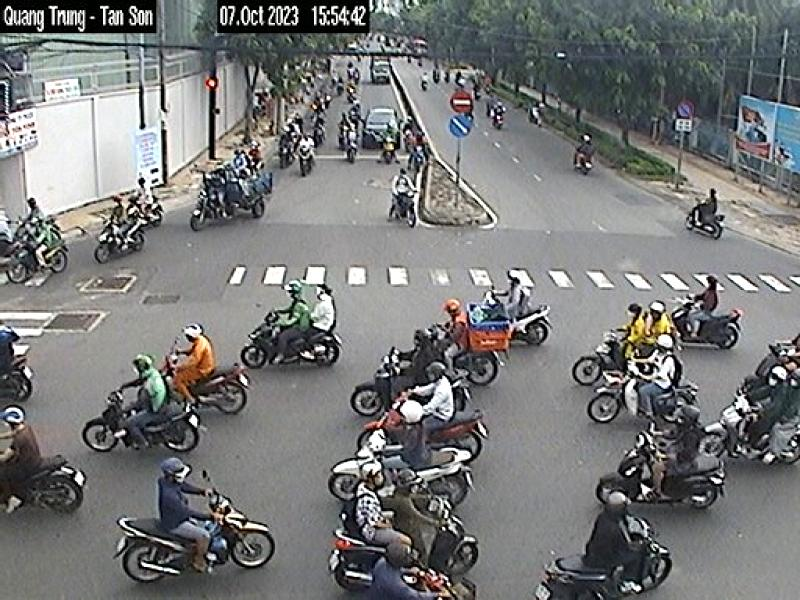motorcycle: (96, 484, 291, 598), (315, 499, 505, 589), (560, 427, 727, 515), (534, 511, 692, 600), (335, 394, 517, 456), (312, 428, 489, 491), (320, 354, 478, 421), (108, 354, 255, 422), (572, 352, 697, 429), (79, 386, 206, 460), (566, 317, 692, 388), (705, 388, 800, 476), (232, 309, 354, 372), (637, 293, 755, 356), (447, 293, 564, 351)
